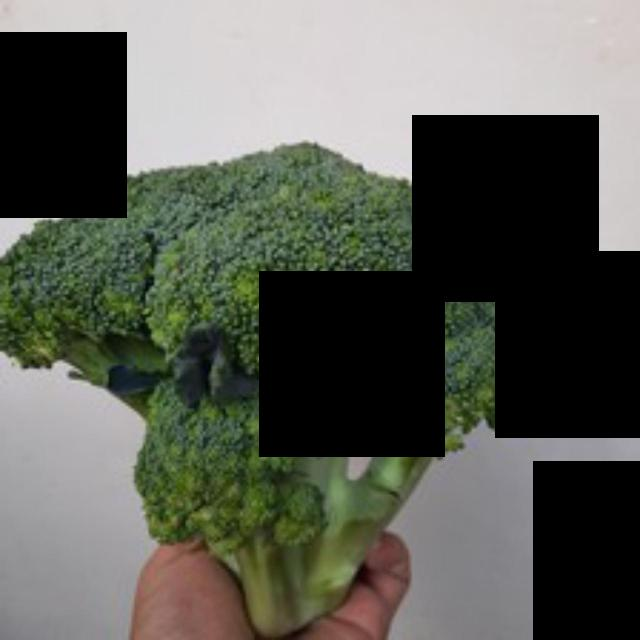broccoli: (0, 143, 560, 637)
